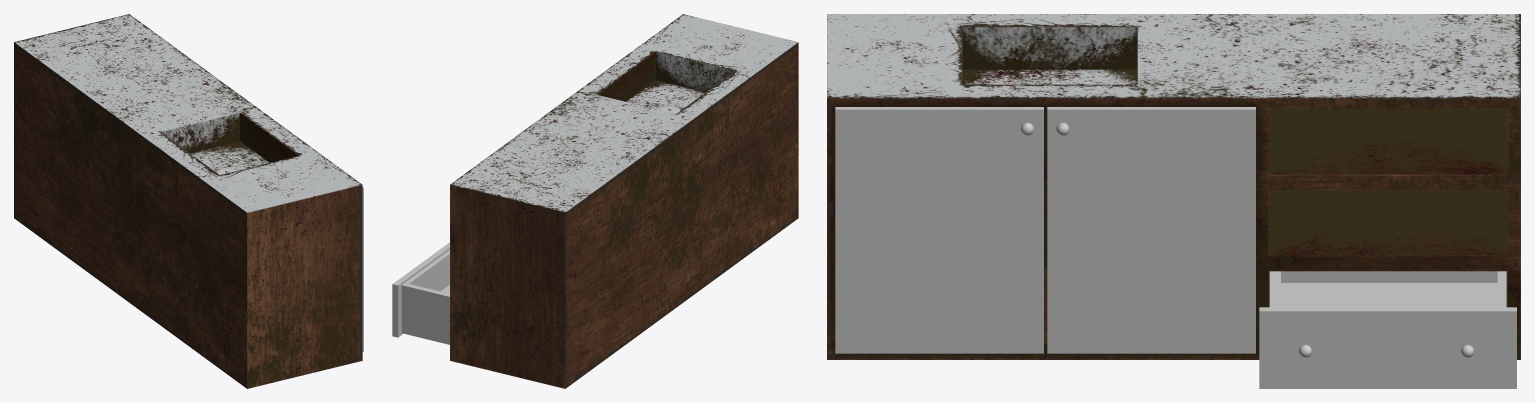
Rendered from table.fbx.
The picture shows the model from 3 angles, left to right: view 1: azimuth 30°, elevation 25°; view 2: azimuth 150°, elevation 25°; view 3: azimuth 270°, elevation 25°; orthographic projection. The views are drawn at different scales.
Parts seen in each view (by area): view 1: Pia, PortaPia2; view 2: Pia, Gaveta1; view 3: Pia, PortaPia1, PortaPia2, Gaveta1.
Boxes of the visible parts, x1=… form: Pia: x1=14, y1=14, x2=362, y2=388; PortaPia2: x1=362, y1=187, x2=363, y2=351; Pia: x1=450, y1=14, x2=798, y2=388; Gaveta1: x1=392, y1=242, x2=449, y2=344; Pia: x1=827, y1=14, x2=1520, y2=359; PortaPia1: x1=1047, y1=107, x2=1255, y2=353; PortaPia2: x1=835, y1=107, x2=1043, y2=353; Gaveta1: x1=1259, y1=271, x2=1516, y2=388.
Size of the model in its own units: 72.79 by 67.53 by 162.
